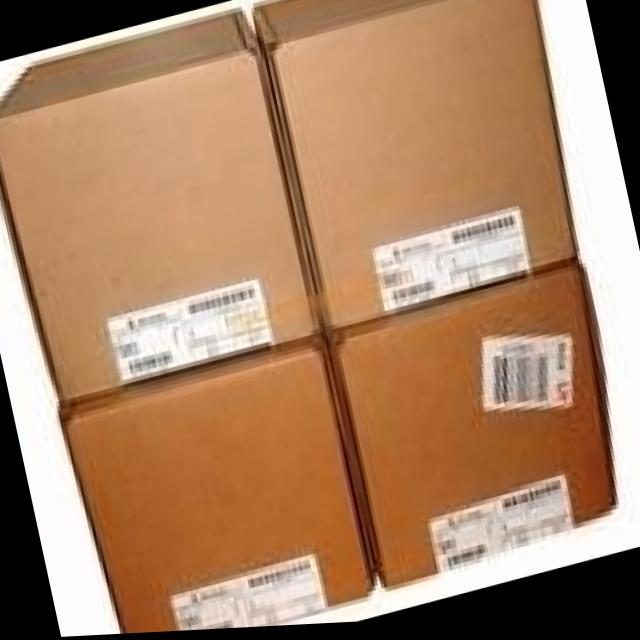box: (0, 7, 321, 403), (254, 0, 576, 336), (321, 260, 618, 594), (59, 337, 376, 635)
